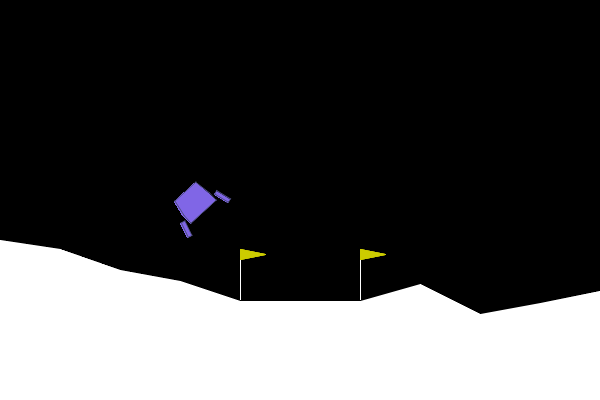lander: (161, 170, 233, 240)
